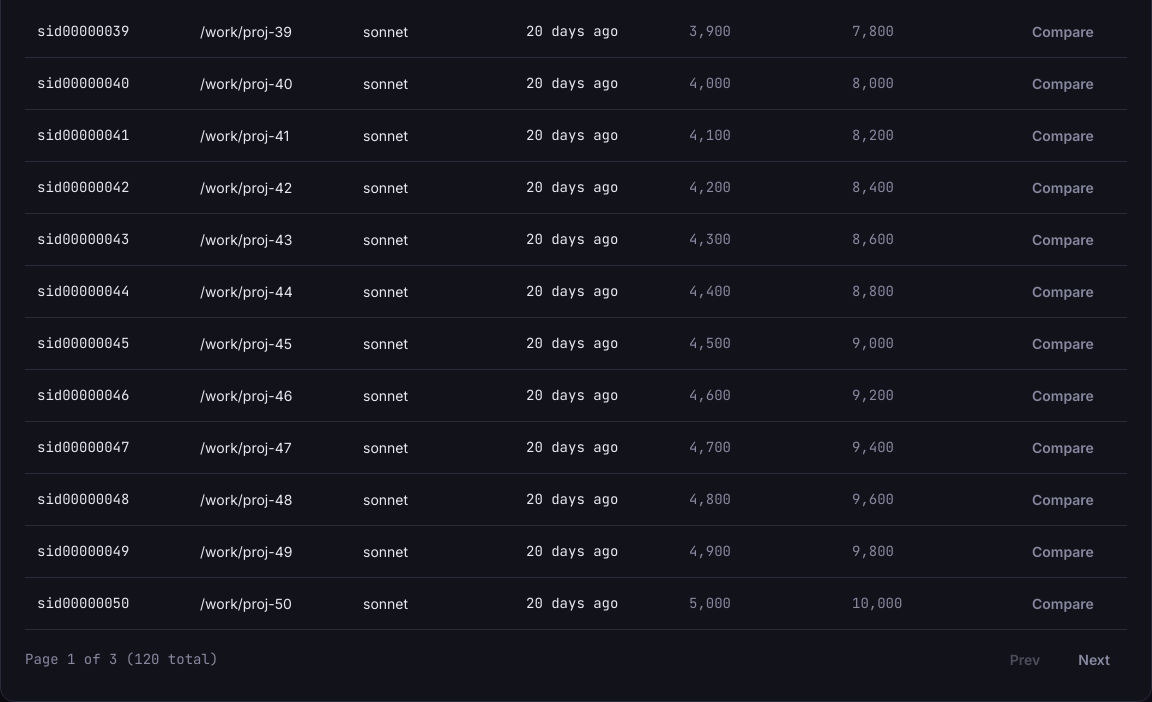
Test: SessionsTable › Next button advances page when more rows exist
The width and height of the screenshot is (1152, 702).
(page scrolled)
Step 1. Click the button with aria-label "Next page" → (1094, 659), box [1061,642,1127,677]
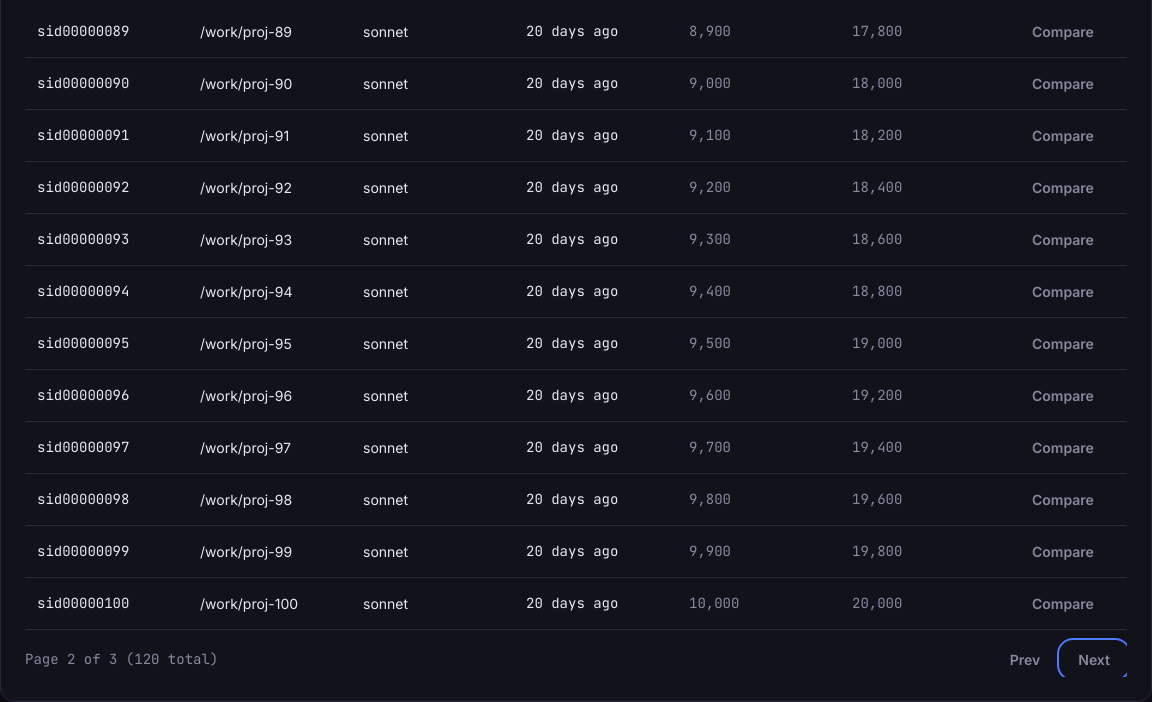
expect the text "Page 2 of 3 (120 total)" is shown: met, box [25,649,218,670]
